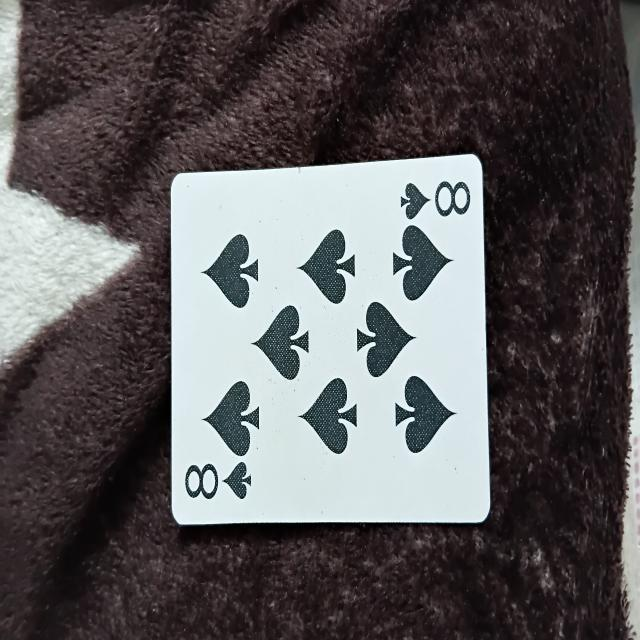8S: (169, 175, 493, 524)
